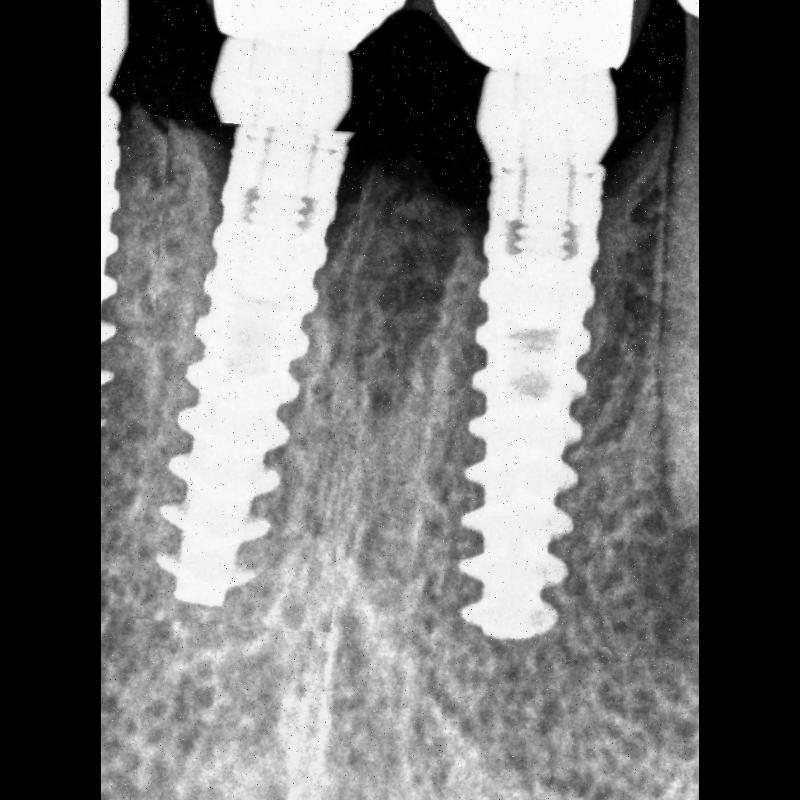ADIN: (144, 123, 358, 629), (445, 163, 625, 646)
